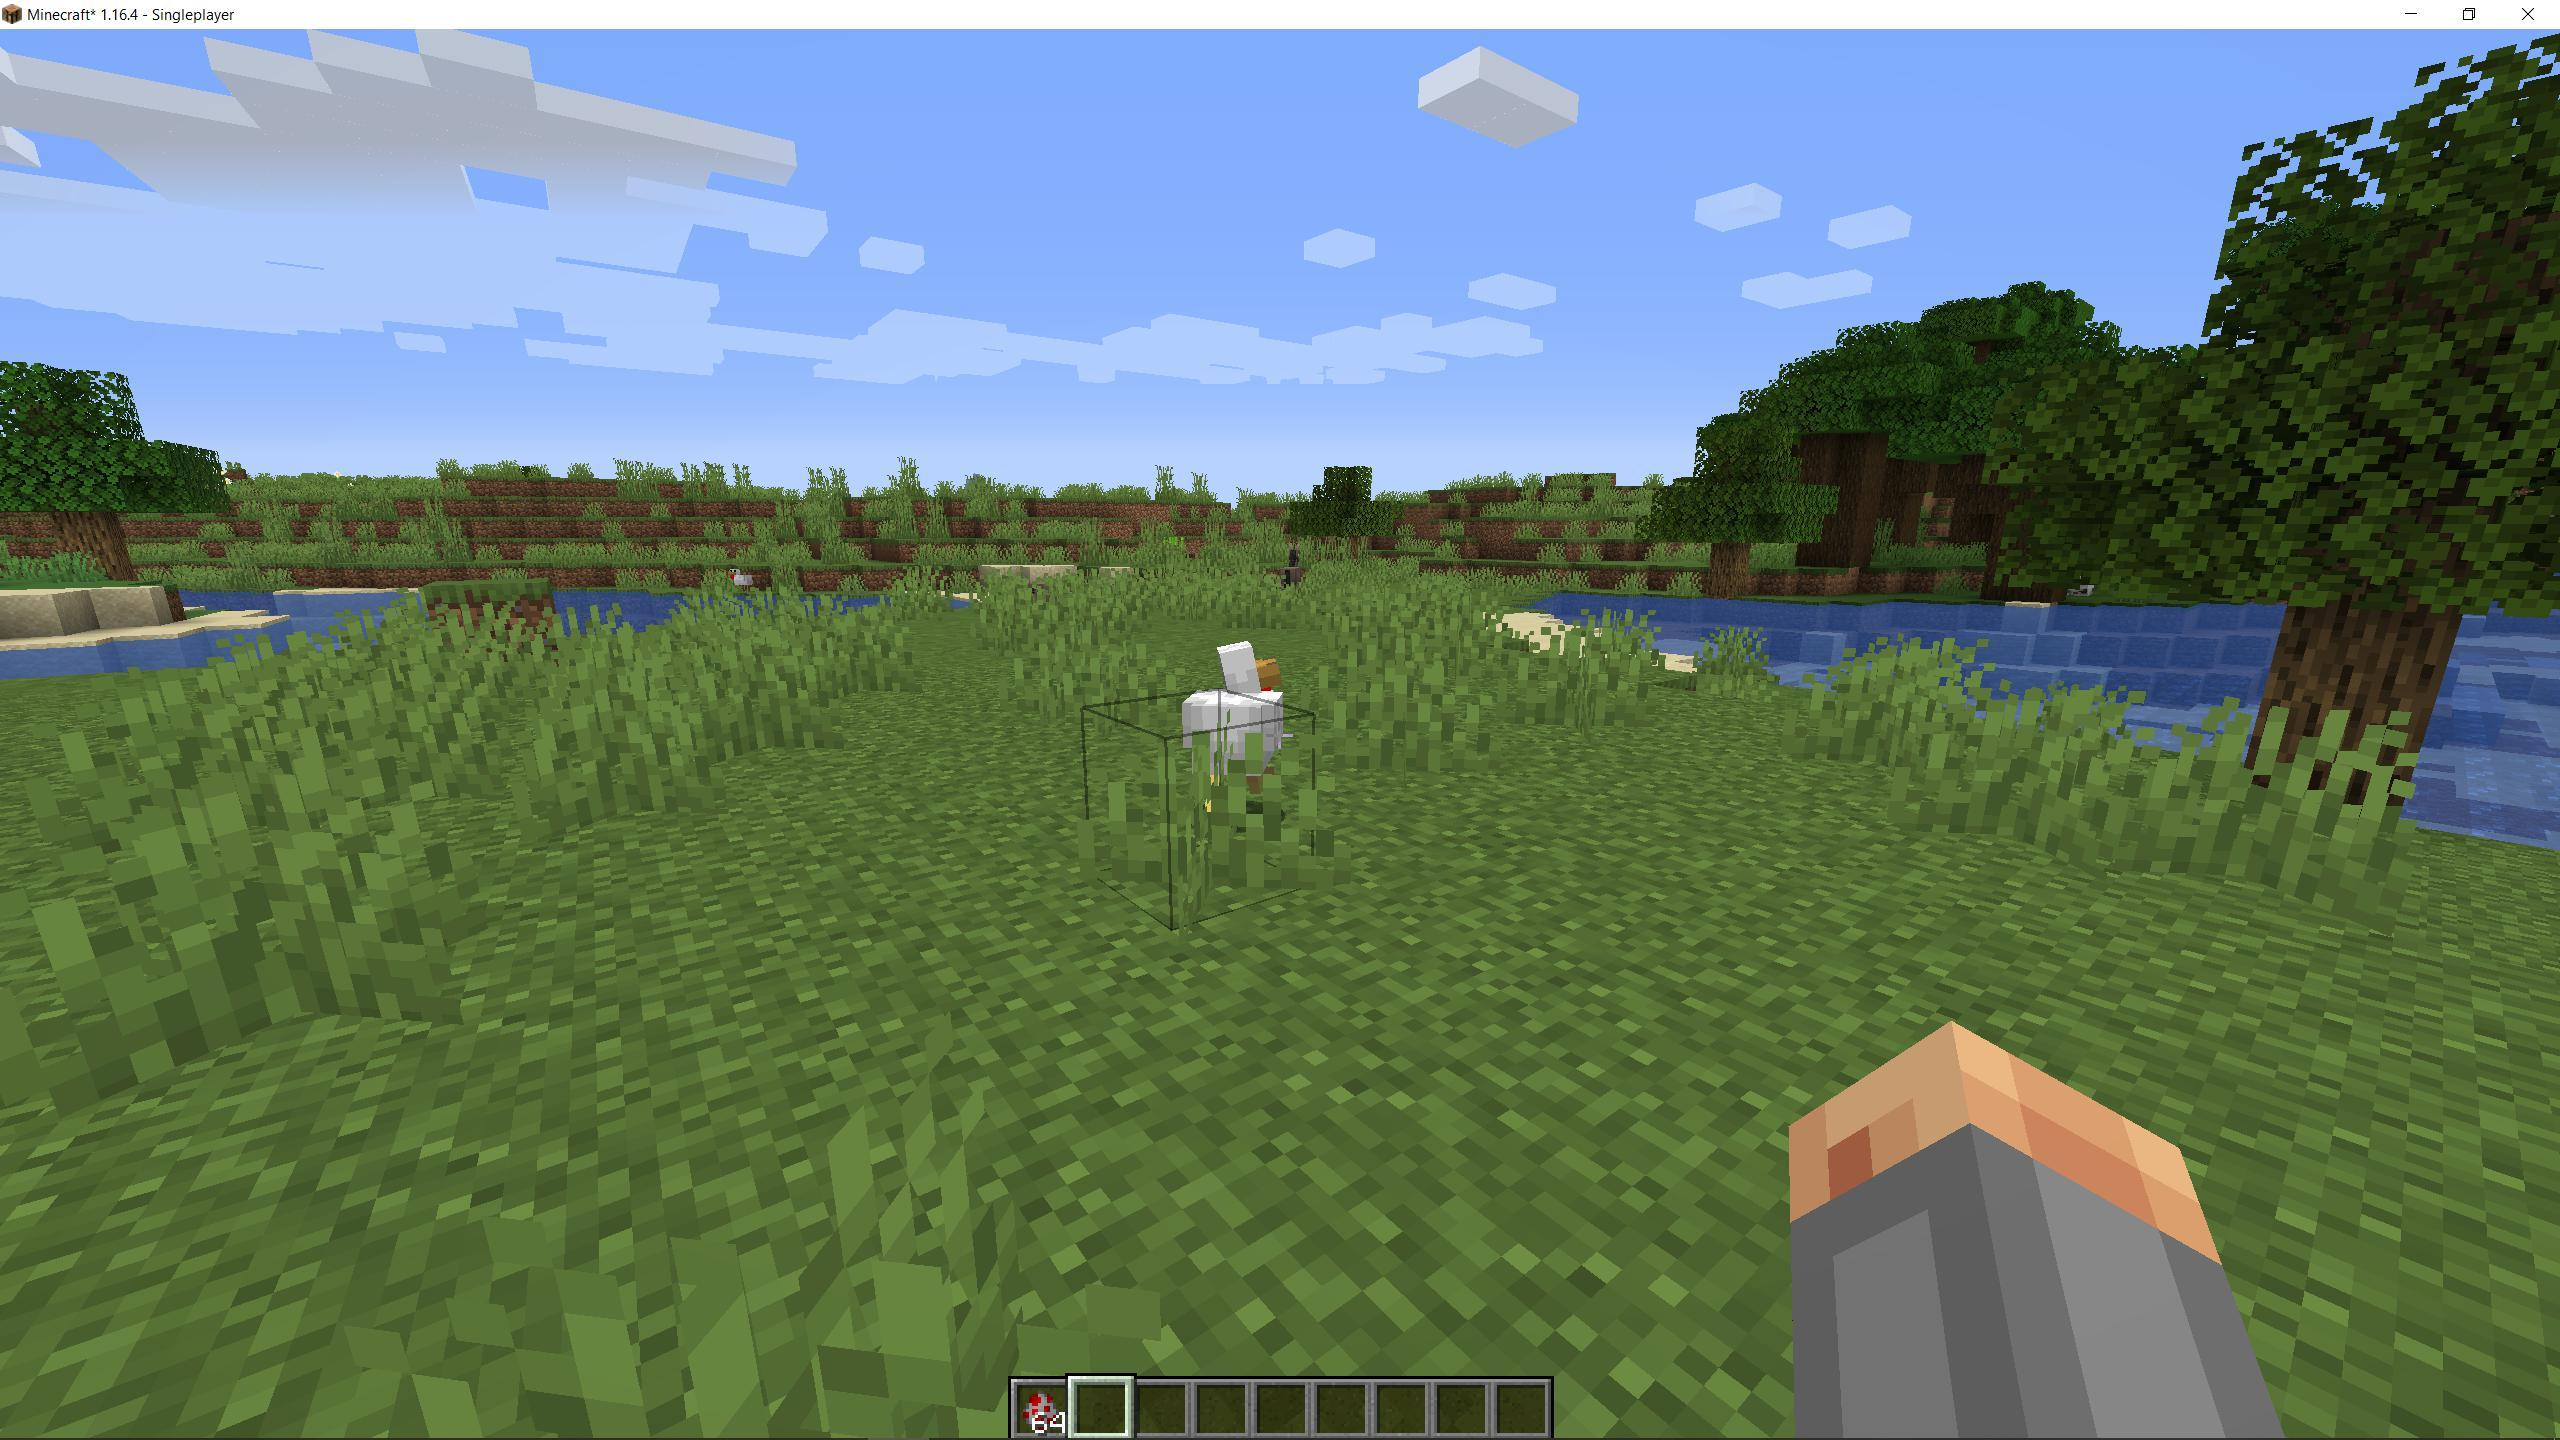chicken: (1173, 638, 1303, 828), (723, 566, 760, 601)
